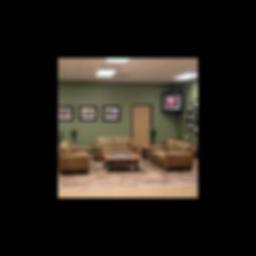Puerta: (132, 106, 152, 141)
